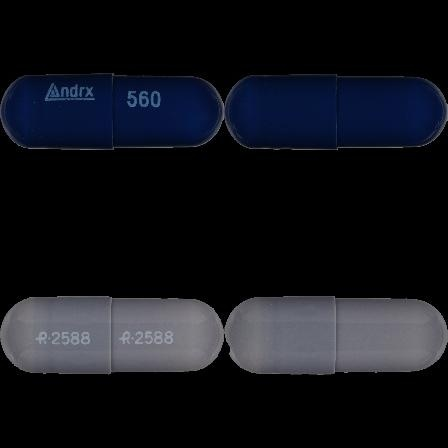0615-1318: (0, 0, 224, 224)
